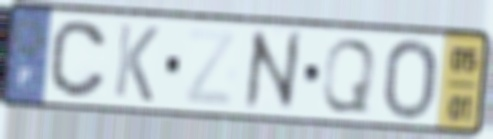C: (47, 18, 110, 101)
K: (111, 20, 162, 105)
N: (242, 27, 303, 115)
O: (381, 37, 440, 123)
Q: (318, 36, 380, 116)
Z: (181, 25, 240, 110)
